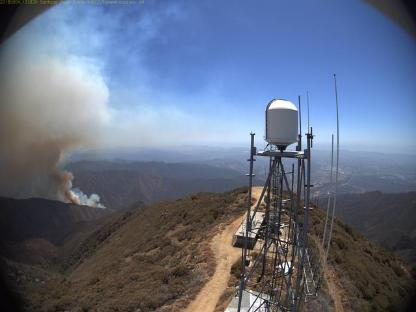smoke: (0, 48, 110, 212)
